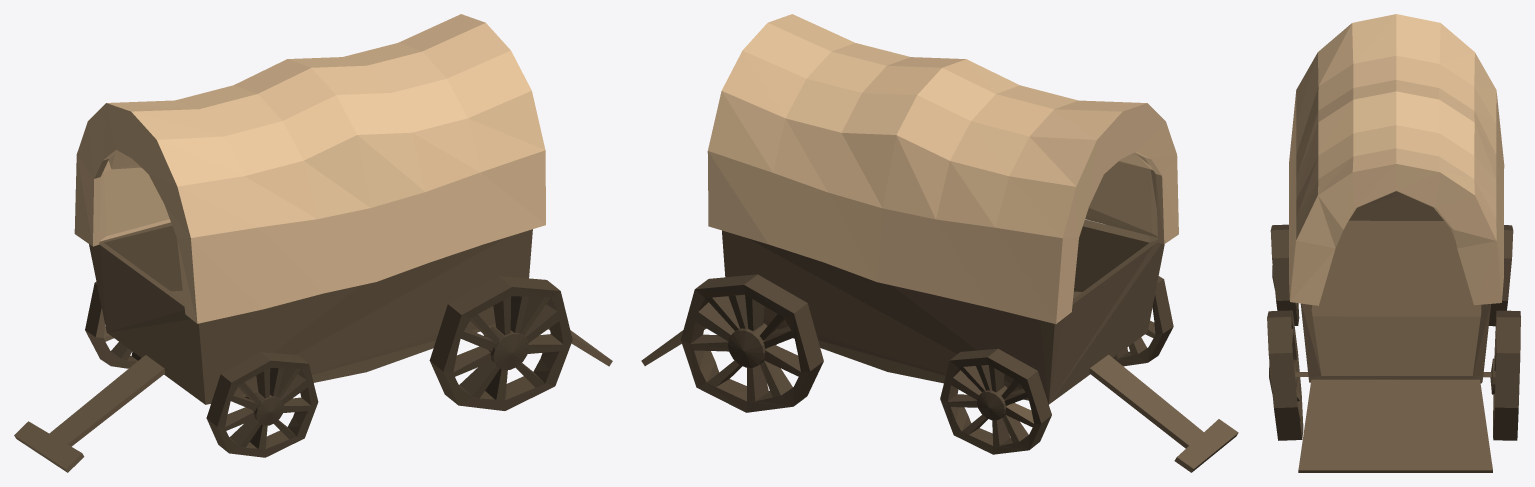
The model's file is fixed wagon fbx 2.fbx.
The picture shows the model from 3 angles, left to right: view 1: azimuth 30°, elevation 25°; view 2: azimuth 150°, elevation 25°; view 3: azimuth 270°, elevation 25°; orthographic projection. The views are drawn at different scales.
Parts seen in each view (by area): view 1: polySurface5; view 2: polySurface5; view 3: polySurface5.
Boxes of the visible parts, <box> form: polySurface5: <box>14,14,612,472</box>; polySurface5: <box>641,14,1238,472</box>; polySurface5: <box>1267,14,1520,472</box>.
Size of the model in its own units: 15.85 by 9.55 by 7.64.
